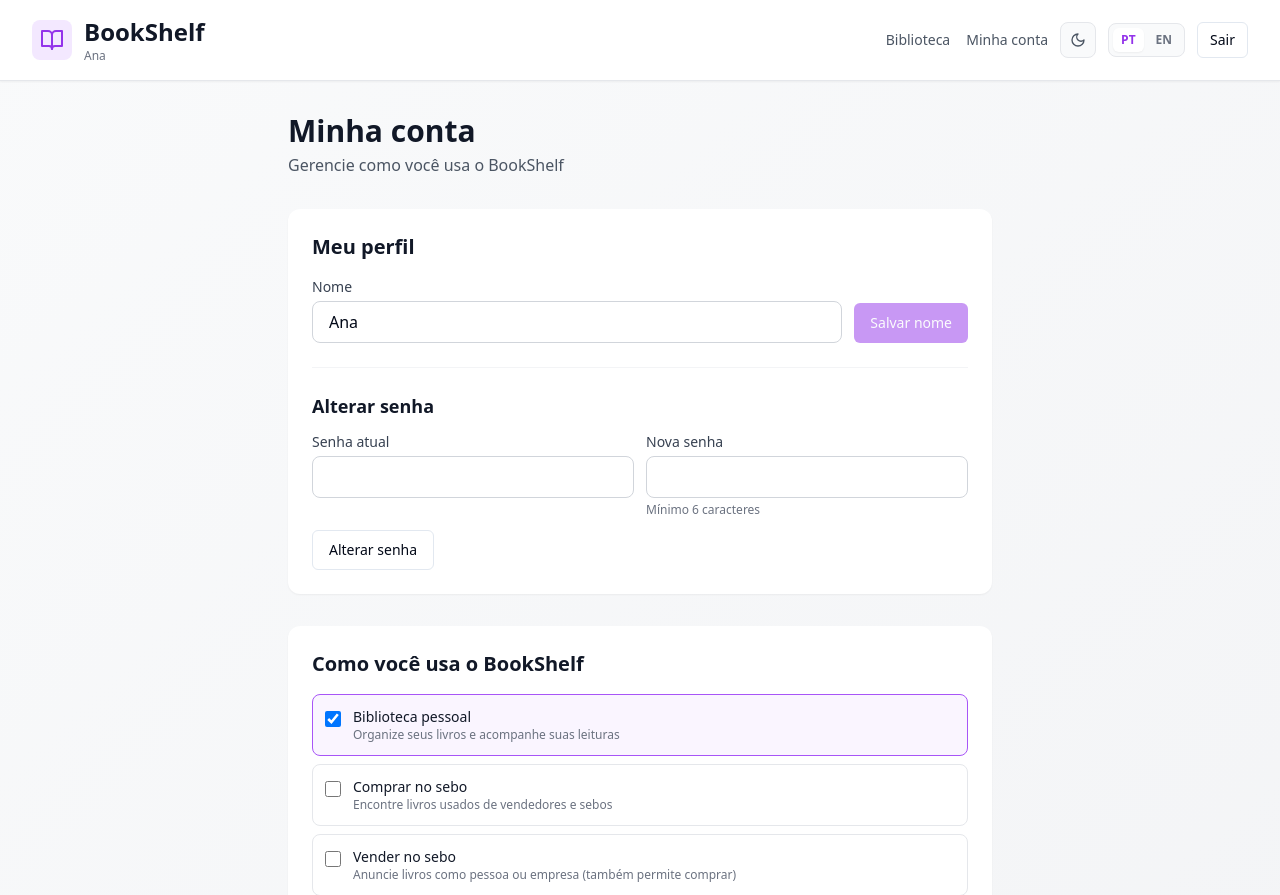
Test: AccountPage profile › saves a new display name and applies the fresh session
Expected: the button with test id "profile-name-save" is disabled, [854,303,968,343]
Replace the text in the field with test id "profile-name-input" with "Ana Souza" at (577, 322), box [312,301,842,343]
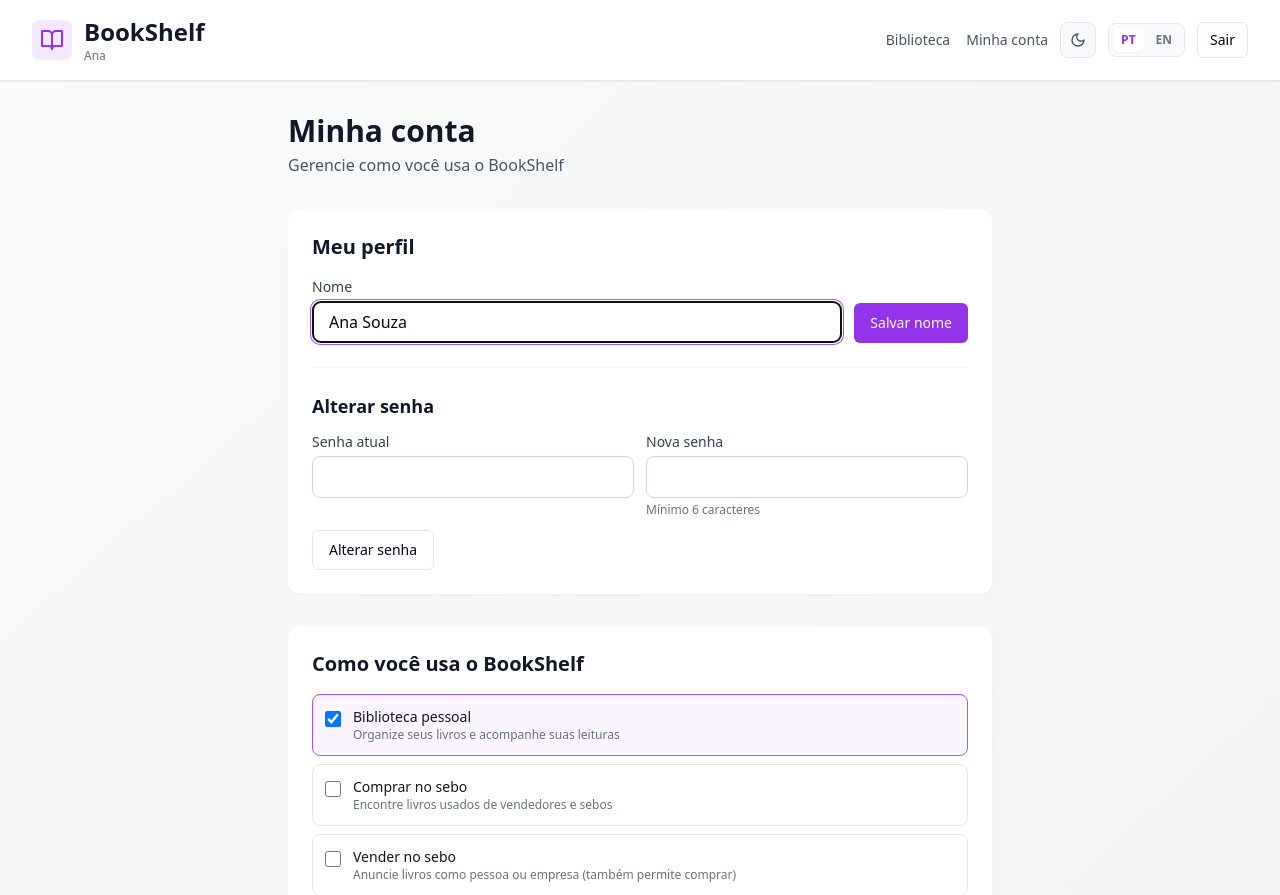
Click the button with test id "profile-name-save" at (911, 323), box [854,303,968,343]
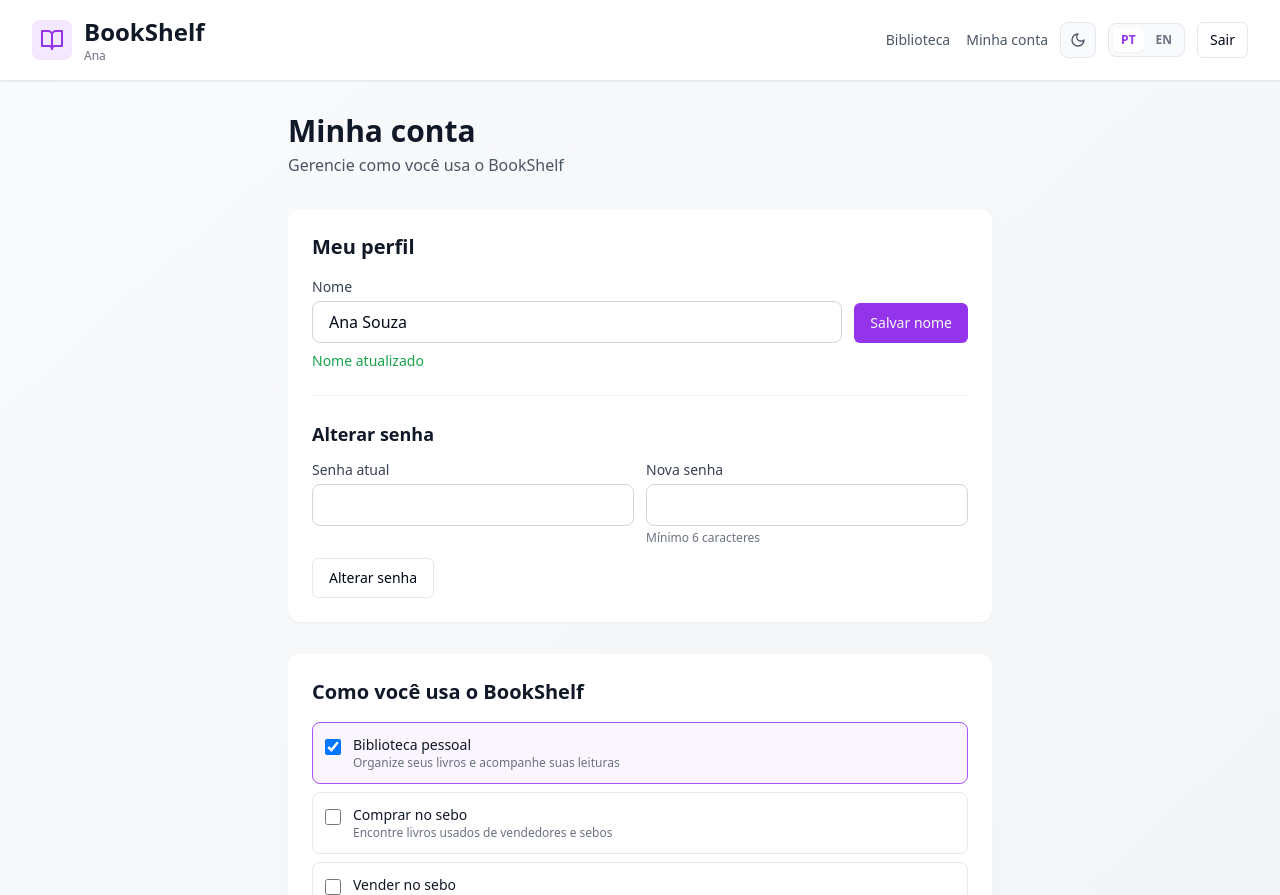
Now the message "Nome atualizado" is shown, box [312,351,424,370]
